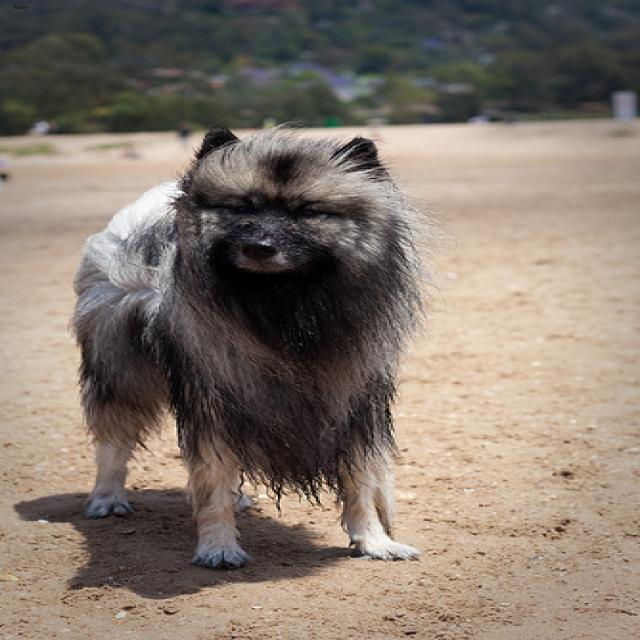dog-keeshond: (63, 115, 450, 573)
